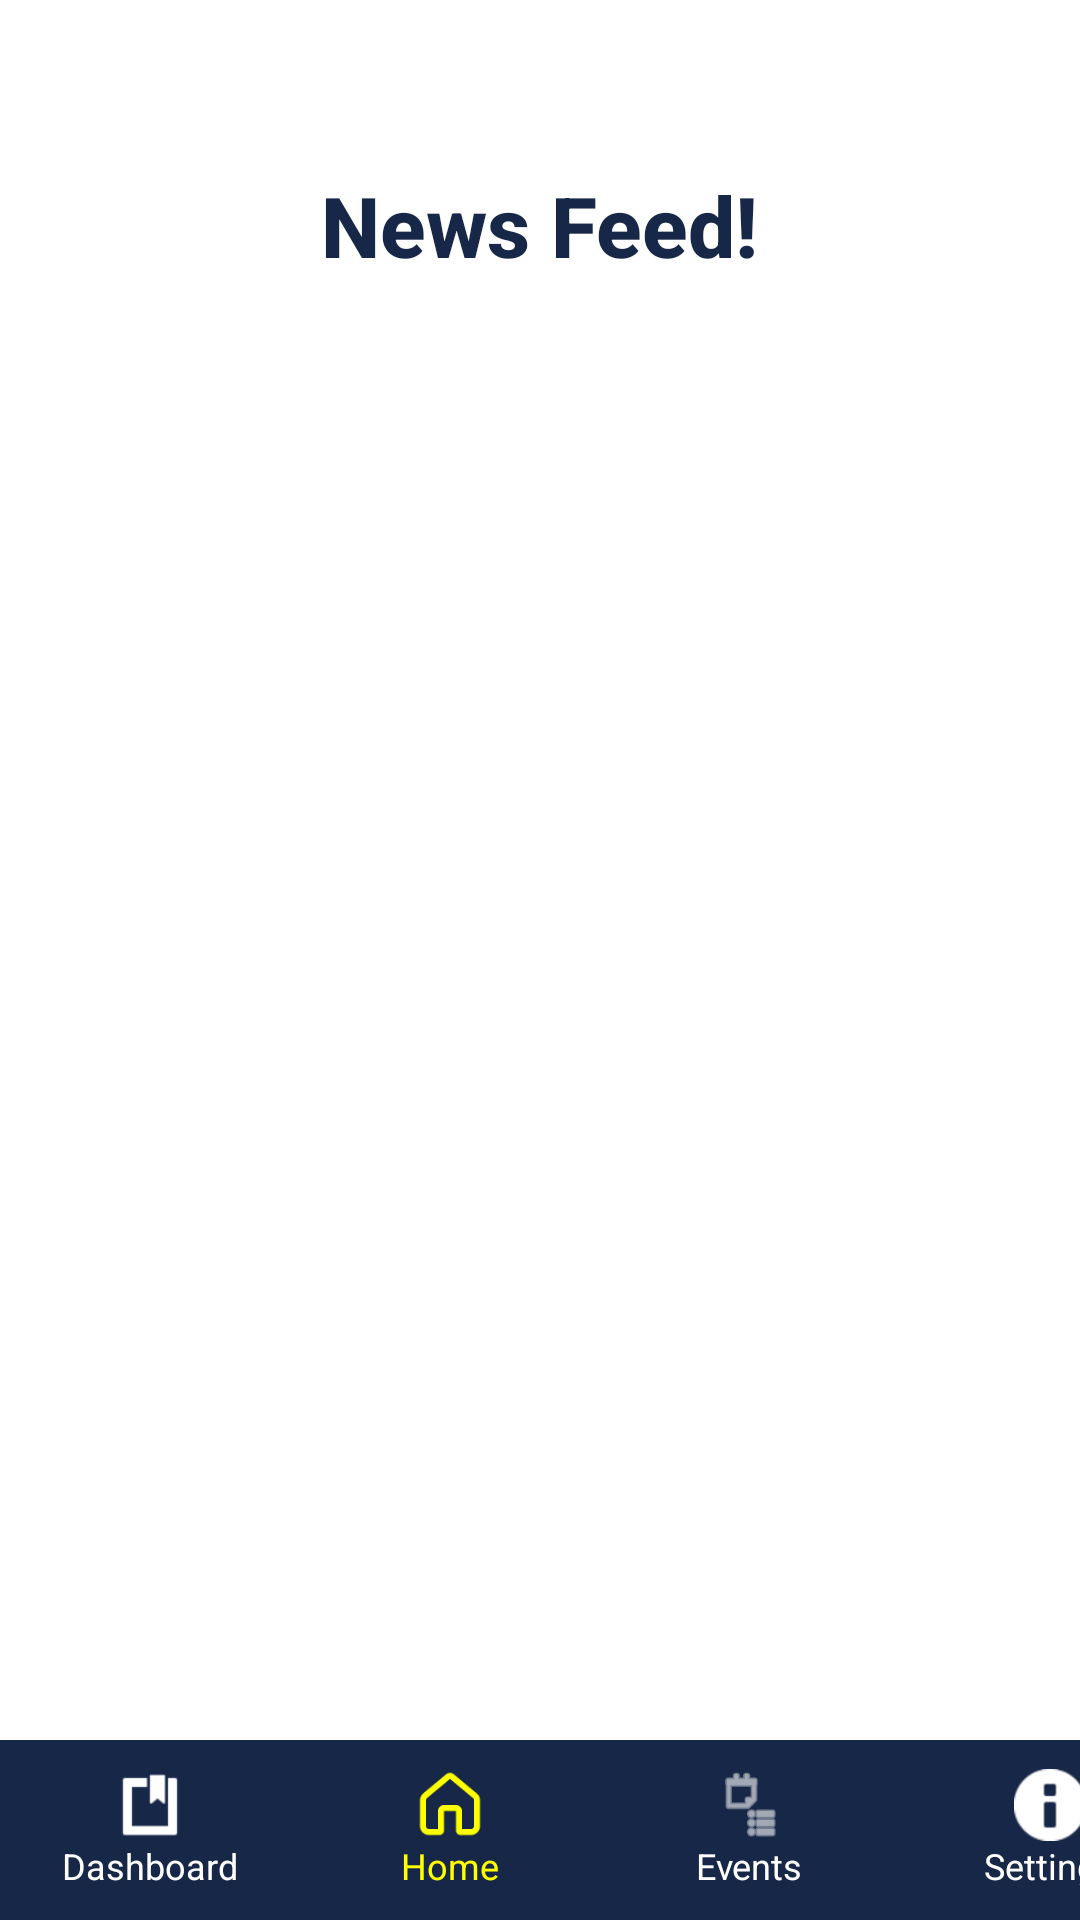

Locate icon controls on the screen. Image size 1080 × 1920, boxes as (x1, y1, x2, y2).
agenda: (725, 1773, 776, 1837)
info: (1014, 1769, 1080, 1841)
